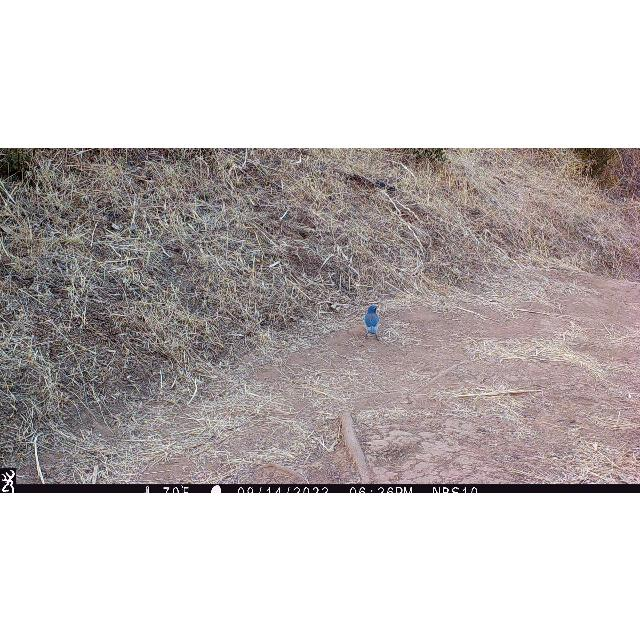animals: (363, 304, 382, 340)
